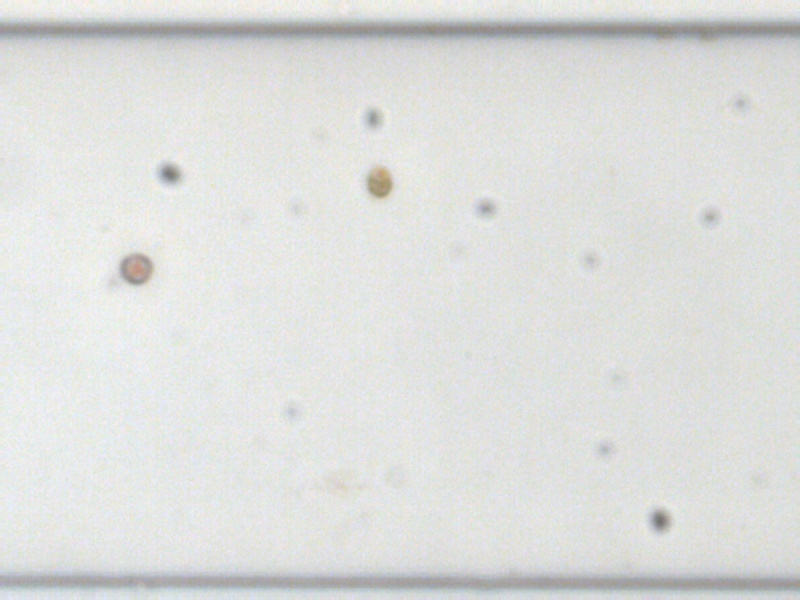Dunaliella salina: (364, 162, 394, 199)
Porphyridium: (115, 249, 155, 286)
